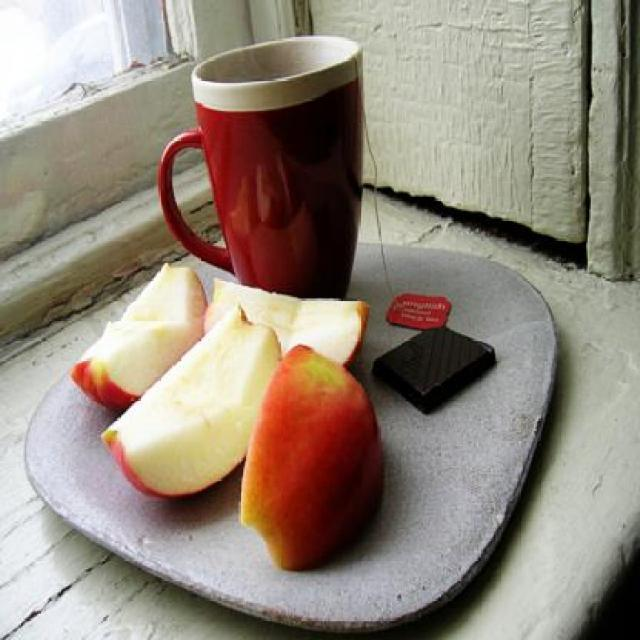Apple pie: (102, 305, 290, 503), (240, 338, 392, 576), (68, 259, 214, 413), (196, 277, 376, 366)
